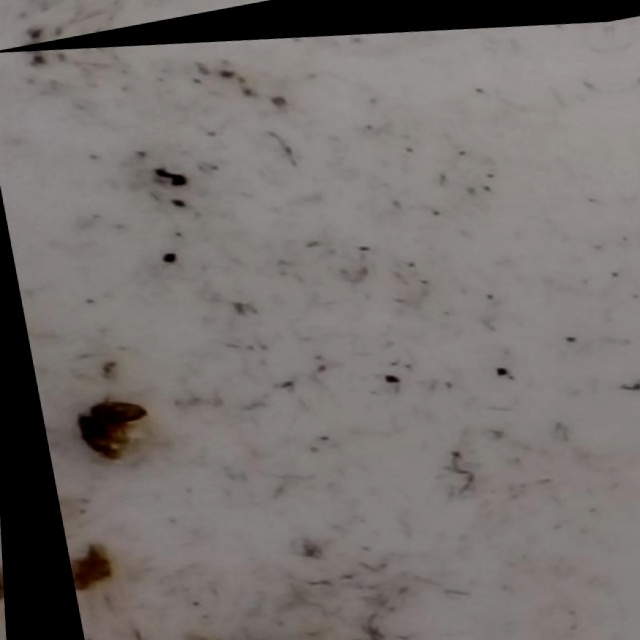varroa: (83, 395, 145, 434)
